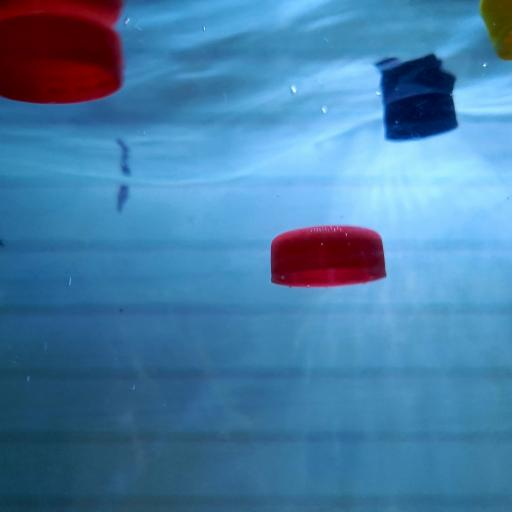bottle_cap: (0, 14, 123, 107), (270, 224, 388, 289), (382, 89, 458, 142), (480, 0, 512, 61)
